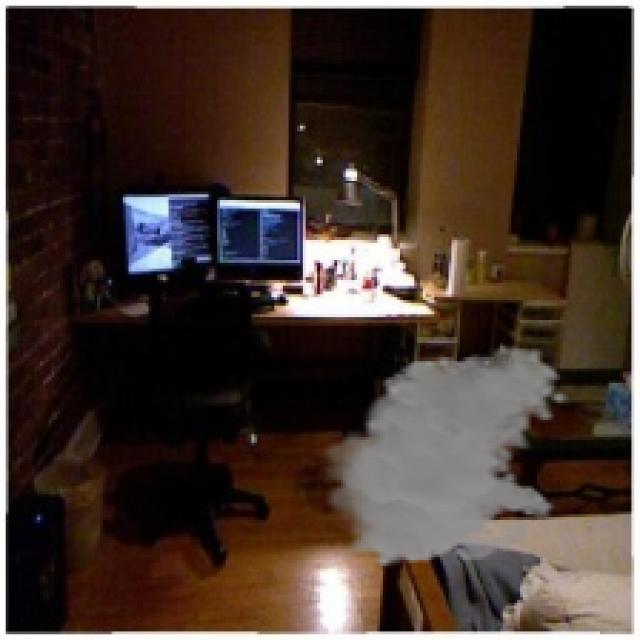smoke: (314, 346, 569, 568)
